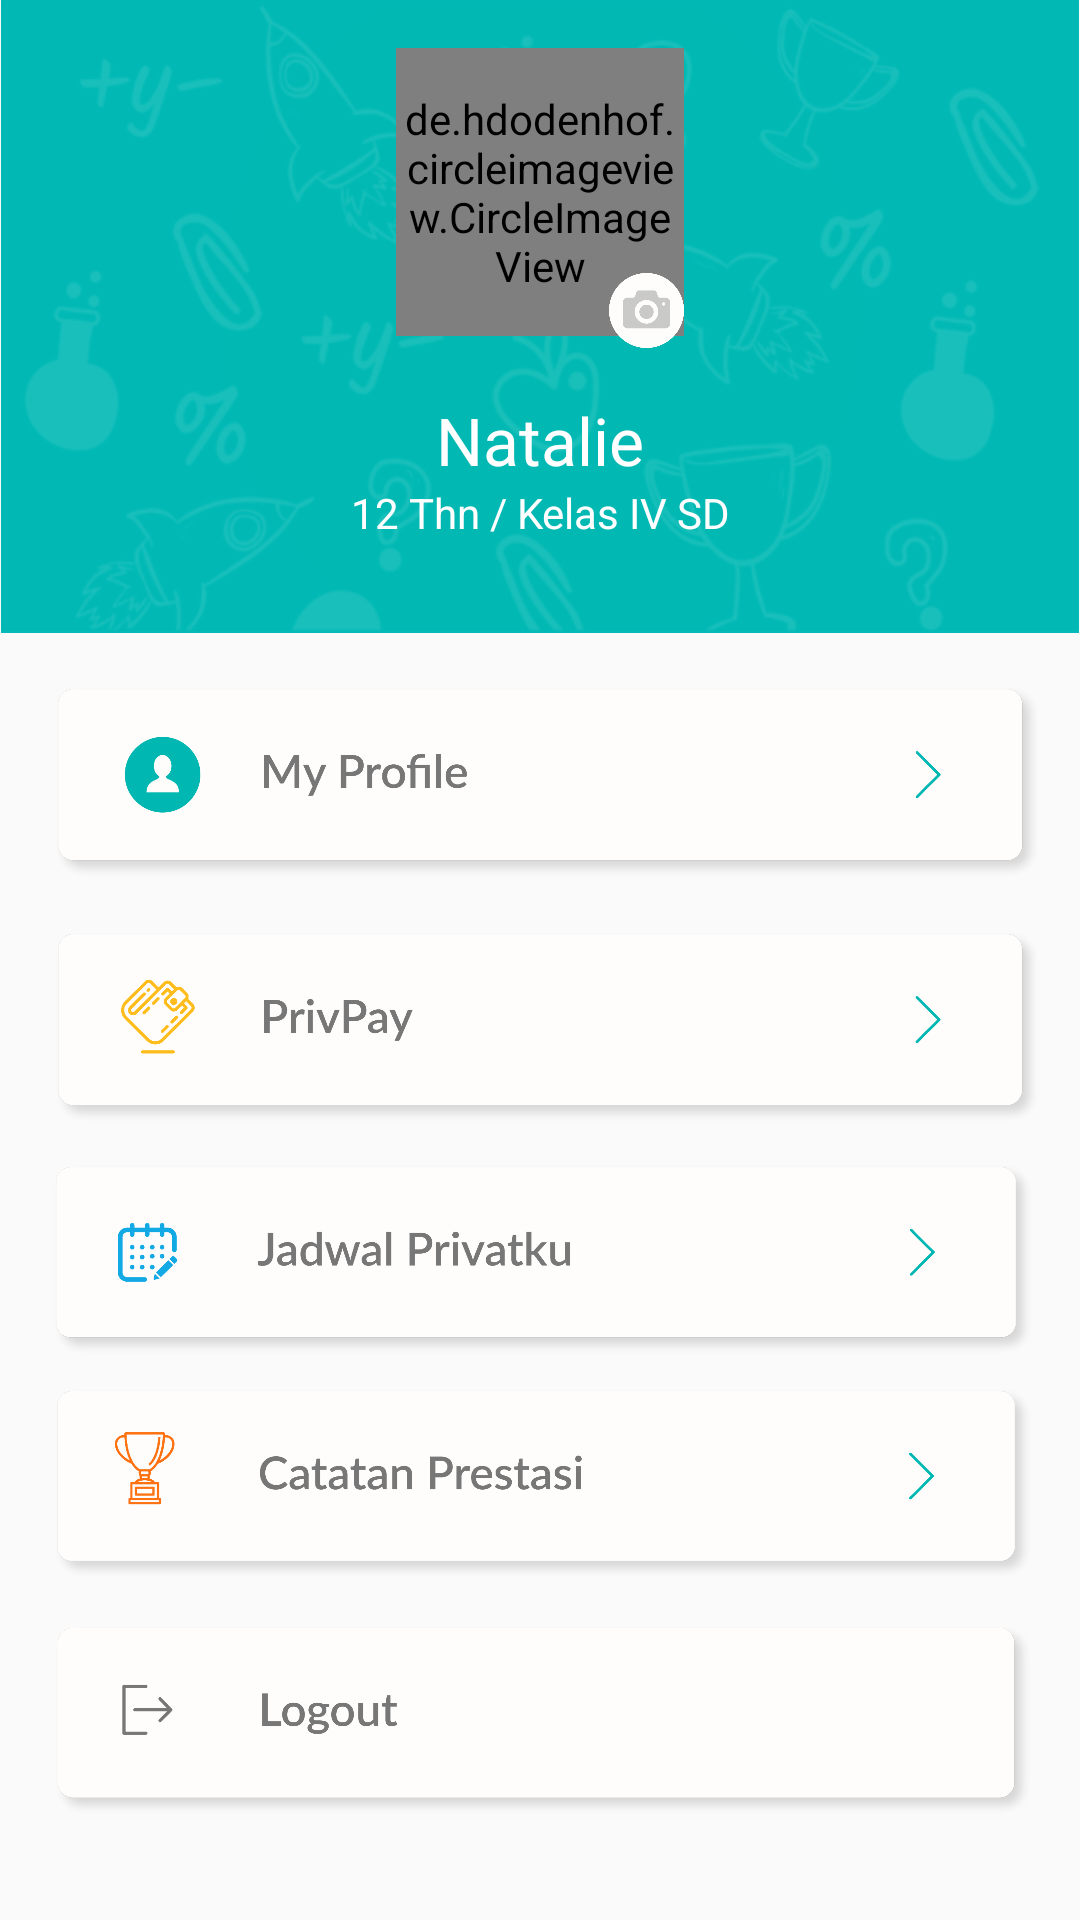

Where to tap for icons on this 1080x1920 app screen, as (x,y):
camera: (646,310)
